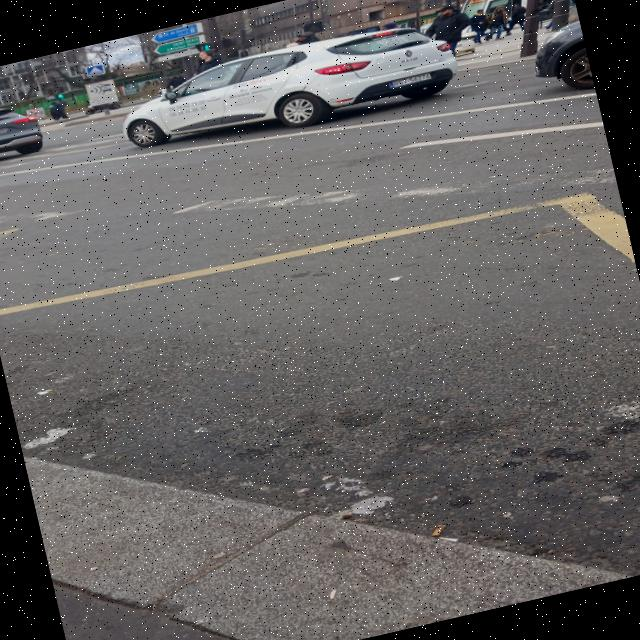Autre: (386, 66, 448, 91), (0, 120, 20, 147)
